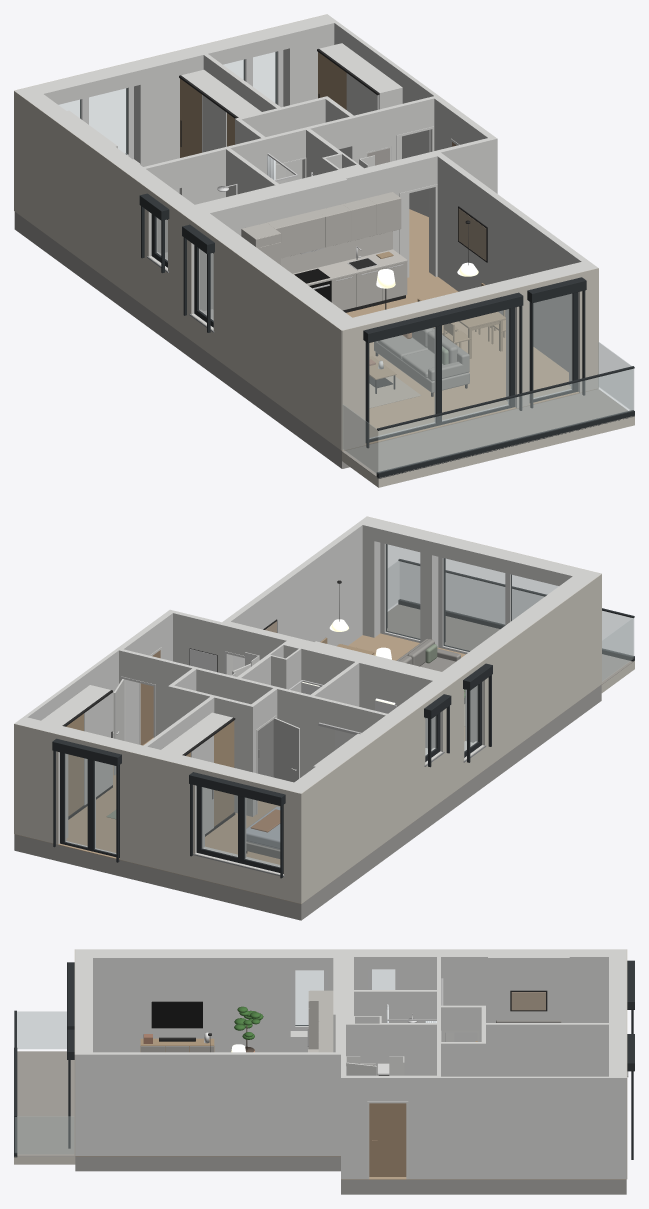
Rendered from alloggio_trilocale_W.glb.
3 renders of one model, top to bottom at view 1: azimuth 30°, elevation 25°; view 2: azimuth 150°, elevation 25°; view 3: azimuth 270°, elevation 25°, orthographic. The views are drawn at different scales.
Parts seen in each view (by area): view 1: 1_Muri e solai/muro_pelle.014, 1_Muri e solai/muro_pelle.007, 2_Serramenti e porte/F6_S_4_vetro, 1_Muri e solai/muro_040, 4_Arredo W soggiorno/W soggiorno - cucina lineare 360, 3_Balcone/balcone_vetro, 1_Muri e solai/pavimento_rovere_1, 3_Balcone/balcone_gres, 1_Muri e solai/muro_003, 4_Arredo W camera 1/W camera 1 - armadio 290x60 ante scorrev, 4_Arredo W camera 2/W camera 2 - armadio 250x60 ante scorrev, 2_Serramenti e porte/F5_S_5_vetro (+61 smaller); view 2: 1_Muri e solai/muro_pelle.007, 1_Muri e solai/muro_pelle.014, 1_Muri e solai/muro_040, 1_Muri e solai/muro_pelle.004, 1_Muri e solai/solaio_0, 2_Serramenti e porte/F6_S_4_vetro, 3_Balcone/balcone_vetro, 1_Muri e solai/muro_pelle.006, 2_Serramenti e porte/F1_N_0_vetro, 2_Serramenti e porte/F2_N_1_vetro, 4_Arredo W camera 2/W camera 2 - armadio 250x60 ante scorrev, 1_Muri e solai/pavimento_rovere_0 (+54 smaller); view 3: 1_Muri e solai/muro_040, 1_Muri e solai/muro_008, 1_Muri e solai/muro_045, 1_Muri e solai/muro_006, 1_Muri e solai/muro_007, 3_Balcone/balcone_gres, 1_Muri e solai/solaio_0, 1_Muri e solai/muro_009, 1_Muri e solai/solaio_1, 1_Muri e solai/muro_033, 2_Serramenti e porte/porta_P1_anta, 1_Muri e solai/muro_020 (+30 smaller).
Part boxes in pixels (bbox=[...]): 1_Muri e solai/muro_pelle.014: bbox=[213, 237, 341, 450]; 1_Muri e solai/muro_pelle.007: bbox=[24, 98, 149, 309]; 2_Serramenti e porte/F6_S_4_vetro: bbox=[369, 309, 509, 438]; 1_Muri e solai/muro_040: bbox=[435, 152, 597, 371]; 4_Arredo W soggiorno/W soggiorno - cucina lineare 360: bbox=[241, 192, 407, 312]; 3_Balcone/balcone_vetro: bbox=[378, 369, 632, 472]; 1_Muri e solai/pavimento_rovere_1: bbox=[342, 274, 594, 450]; 3_Balcone/balcone_gres: bbox=[342, 389, 634, 478]; 1_Muri e solai/muro_003: bbox=[130, 42, 222, 166]; 4_Arredo W camera 1/W camera 1 - armadio 290x60 ante scorrev: bbox=[179, 69, 261, 157]; 4_Arredo W camera 2/W camera 2 - armadio 250x60 ante scorrev: bbox=[317, 43, 402, 159]; 2_Serramenti e porte/F5_S_5_vetro: bbox=[533, 294, 572, 398]; 1_Muri e solai/muro_pelle.007: bbox=[311, 703, 425, 896]; 1_Muri e solai/muro_pelle.014: bbox=[484, 574, 601, 769]; 1_Muri e solai/muro_040: bbox=[222, 516, 371, 670]; 1_Muri e solai/muro_pelle.004: bbox=[120, 749, 195, 877]; 1_Muri e solai/solaio_0: bbox=[14, 790, 456, 920]; 2_Serramenti e porte/F6_S_4_vetro: bbox=[443, 558, 558, 651]; 3_Balcone/balcone_vetro: bbox=[400, 562, 633, 655]; 1_Muri e solai/muro_pelle.006: bbox=[14, 723, 58, 844]; 2_Serramenti e porte/F1_N_0_vetro: bbox=[202, 787, 279, 867]; 2_Serramenti e porte/F2_N_1_vetro: bbox=[65, 754, 115, 853]; 4_Arredo W camera 2/W camera 2 - armadio 250x60 ante scorrev: bbox=[41, 685, 112, 819]; 1_Muri e solai/pavimento_rovere_0: bbox=[14, 737, 301, 903]; 1_Muri e solai/muro_040: bbox=[75, 1052, 340, 1155]; 1_Muri e solai/muro_008: bbox=[408, 1076, 608, 1179]; 1_Muri e solai/muro_045: bbox=[75, 949, 290, 1052]; 1_Muri e solai/muro_006: bbox=[400, 949, 608, 1041]; 1_Muri e solai/muro_007: bbox=[481, 1023, 608, 1076]; 3_Balcone/balcone_gres: bbox=[14, 1051, 75, 1156]; 1_Muri e solai/solaio_0: bbox=[341, 1179, 626, 1194]; 1_Muri e solai/muro_009: bbox=[488, 957, 569, 1022]; 1_Muri e solai/solaio_1: bbox=[75, 1156, 340, 1171]; 1_Muri e solai/muro_033: bbox=[341, 1075, 367, 1179]; 2_Serramenti e porte/porta_P1_anta: bbox=[369, 1103, 406, 1176]; 1_Muri e solai/muro_020: bbox=[379, 1023, 440, 1075].
Bounding box in the file's own units: 7.66 × 3.15 × 15.2.
